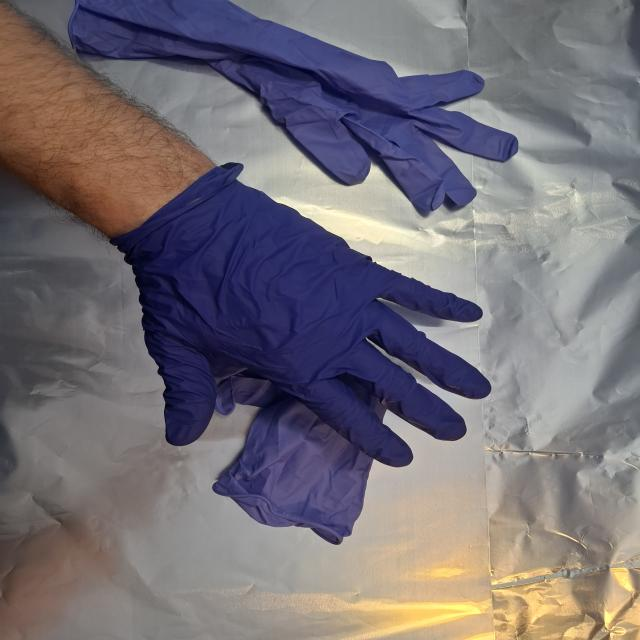glove_on: (127, 165, 496, 470)
